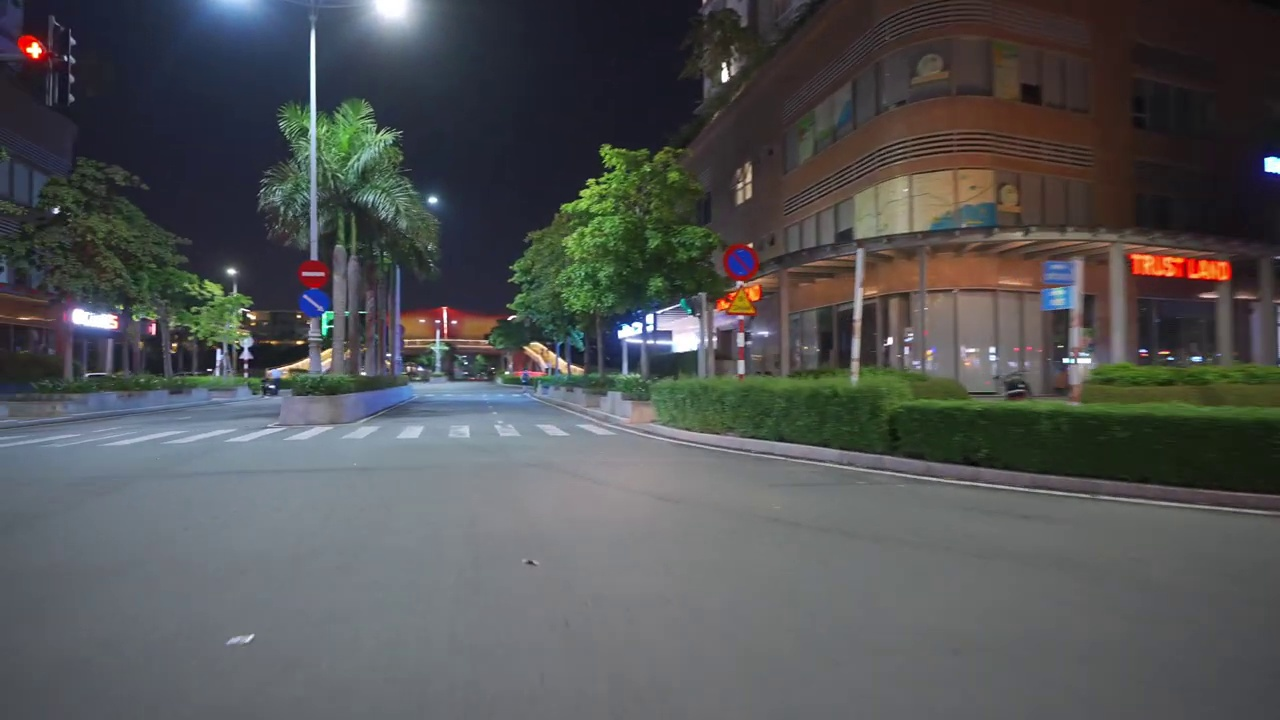cam_do_xe: (721, 243, 759, 281)
cam_nguoc_chieu: (297, 259, 330, 288)
di_cham: (723, 284, 758, 317)
huong_phai_di_vong: (298, 289, 329, 317)
